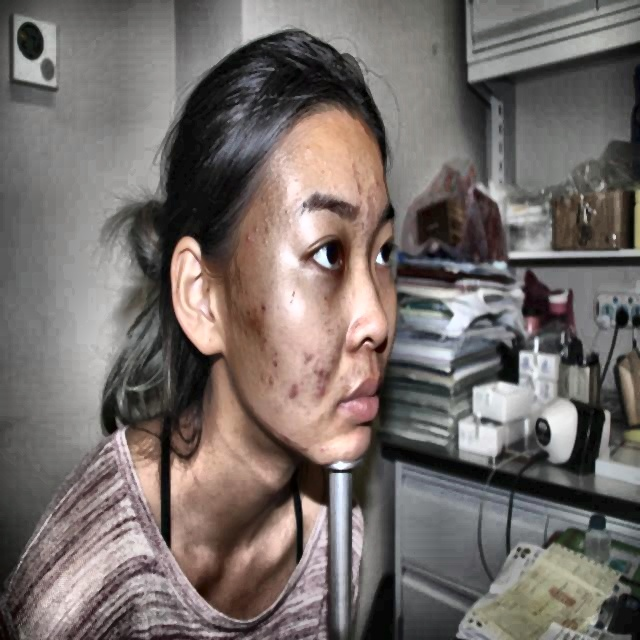pustule: (310, 362, 331, 383), (288, 376, 301, 408), (368, 172, 386, 194), (266, 369, 280, 393), (315, 382, 330, 403), (281, 426, 292, 450), (258, 298, 270, 318), (241, 229, 254, 246)
